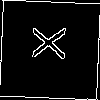X: (24, 25, 66, 60)
